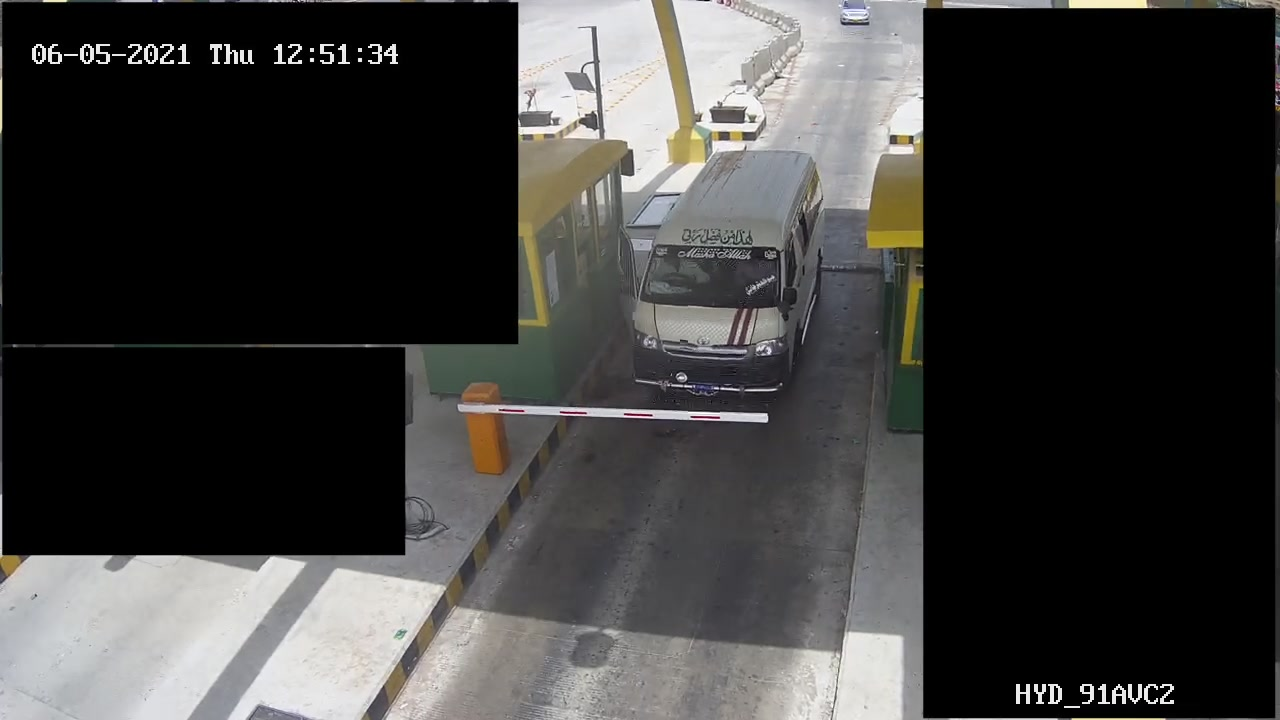F2: (616, 141, 832, 398)
